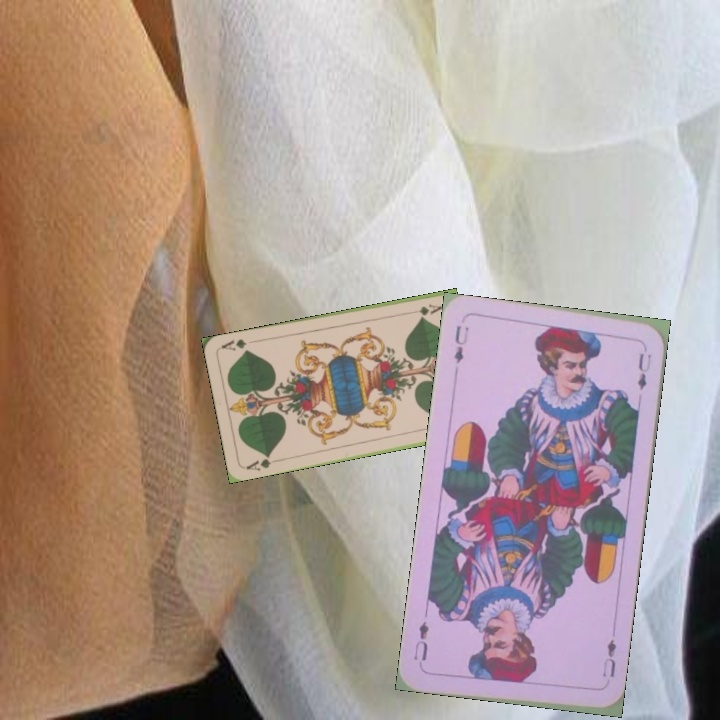EU: (450, 321, 472, 366), (598, 635, 619, 680)
GA: (242, 451, 281, 473), (403, 300, 444, 318)
